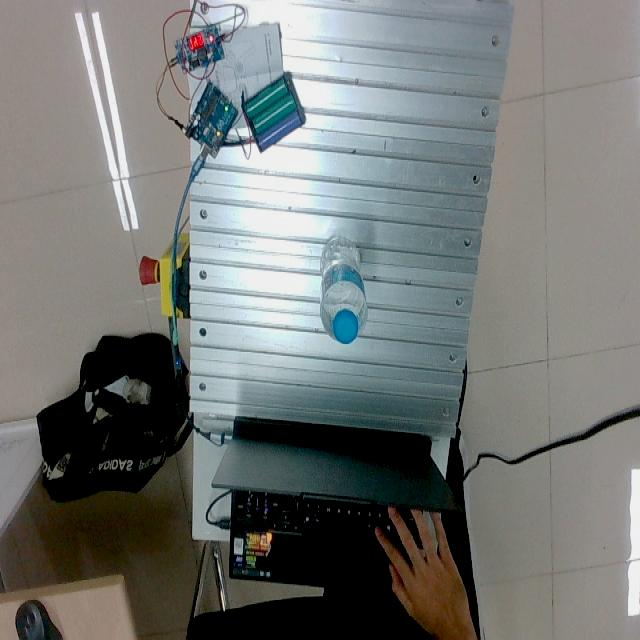lavie: (319, 238, 367, 346)
